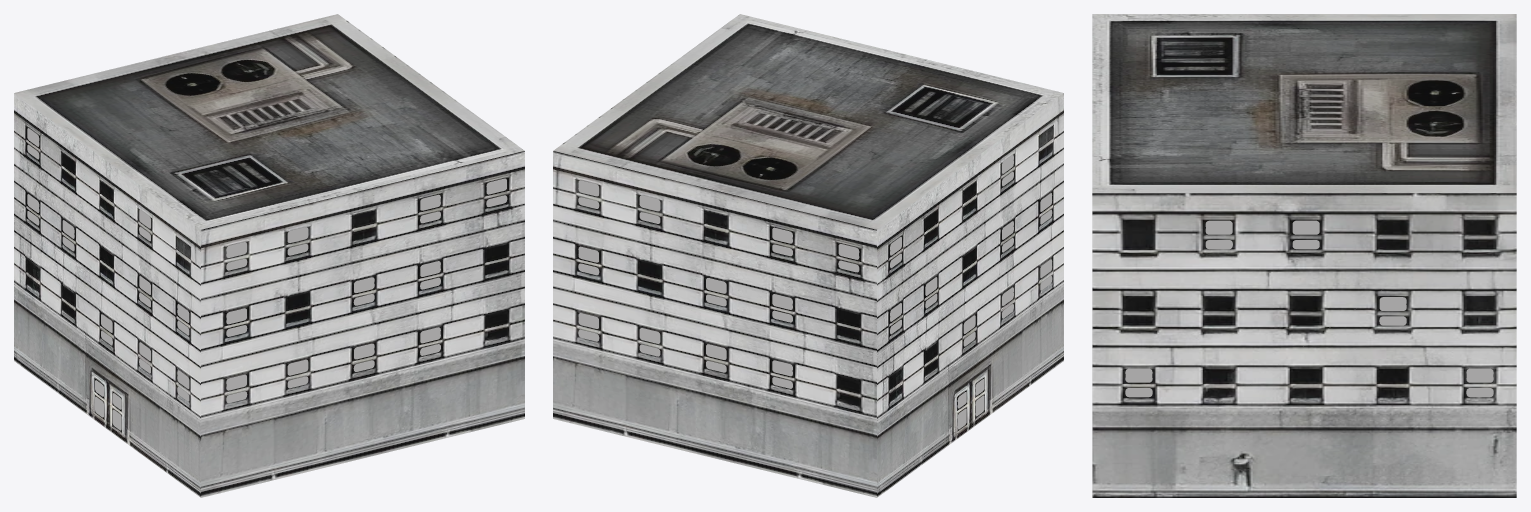
File: city4storyc_hdtex.glb
3 renders of one model, left to right at view 1: azimuth 30°, elevation 25°; view 2: azimuth 150°, elevation 25°; view 3: azimuth 270°, elevation 25°, orthographic. The views are drawn at different scales.
Visible parts, largest first — view 1: City4Story_, LitWin_City4Story; view 2: City4Story_, LitWin_City4Story; view 3: City4Story_, LitWin_City4Story.
Boxes of the visible parts, left/top/right/bottom form: City4Story_: left=14, top=14, right=524, bottom=497; LitWin_City4Story: left=27, top=128, right=507, bottom=430; City4Story_: left=553, top=14, right=1063, bottom=497; LitWin_City4Story: left=578, top=155, right=1052, bottom=429; City4Story_: left=1092, top=14, right=1516, bottom=497; LitWin_City4Story: left=1125, top=220, right=1493, bottom=397.
Size of the model in its own units: 17.92 by 14.18 by 17.92.
1 material, 1 textured.
